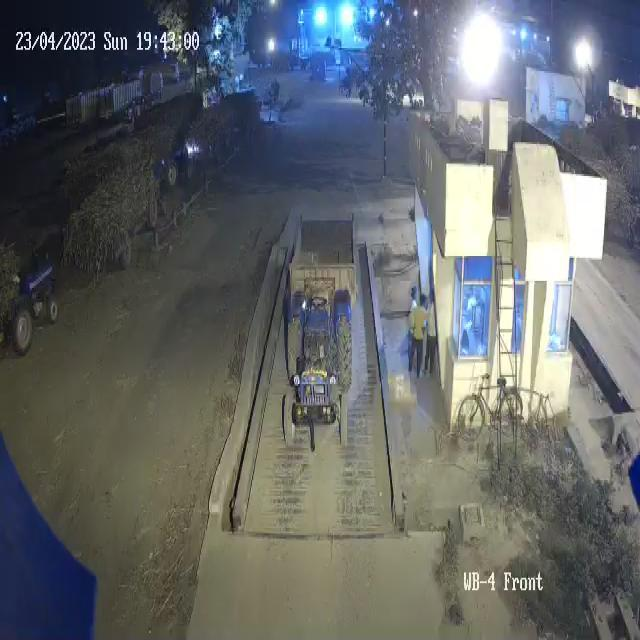Tratores - v5 YOLO V8L 2024-11-13: (283, 278, 354, 469), (12, 249, 62, 352)
